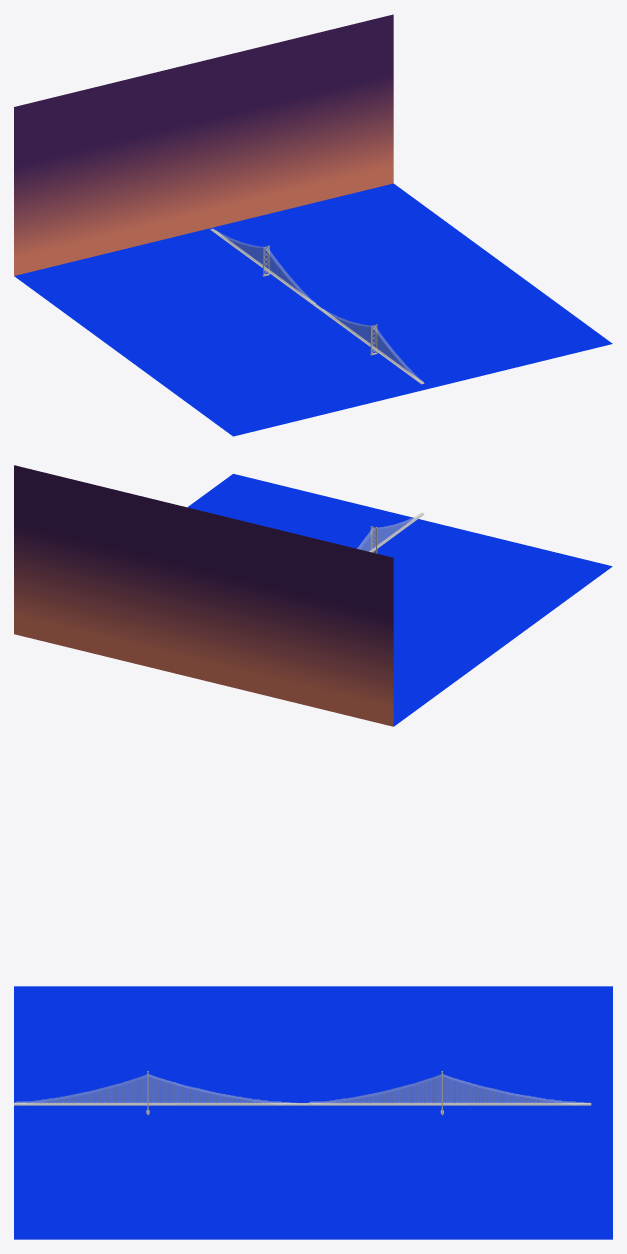
File: asset.glb
3 views of the same model, one above another, from view 1: azimuth 30°, elevation 25°; view 2: azimuth 150°, elevation 25°; view 3: azimuth 270°, elevation 25° (orthographic). The views are drawn at different scales.
Visible parts, largest first — view 1: umi, 平面, turibasi, michi; view 2: 平面, umi, turibasi; view 3: umi, turibasi, michi.
Part boxes in pixels (x1,y1,x2,y2): umi: (14,183,612,436); 平面: (14,14,393,275); turibasi: (211,228,423,383); michi: (210,229,424,384); 平面: (14,465,393,726); umi: (187,473,612,726); turibasi: (357,512,423,551); umi: (14,986,612,1239); turibasi: (14,1074,591,1104); michi: (14,1103,591,1105).
Bounding box in the file's own units: 0.4882 × 0.2077 × 0.4882.
Materials: 4 (2 with a texture image).
